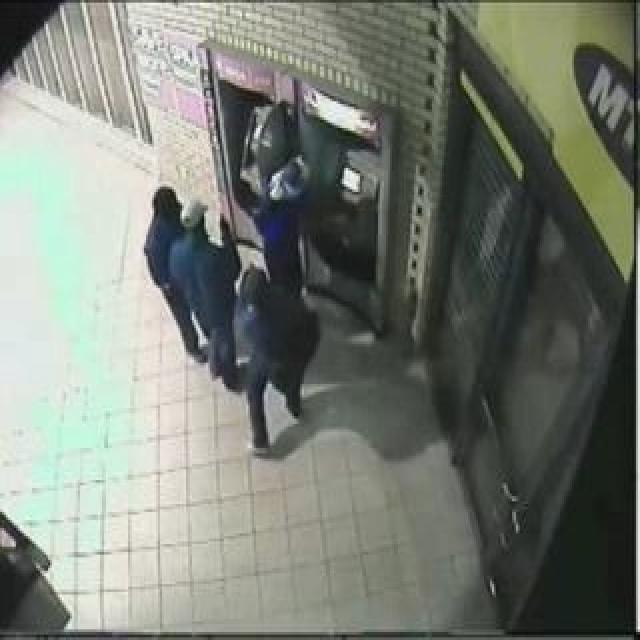thief: (141, 156, 290, 330)
